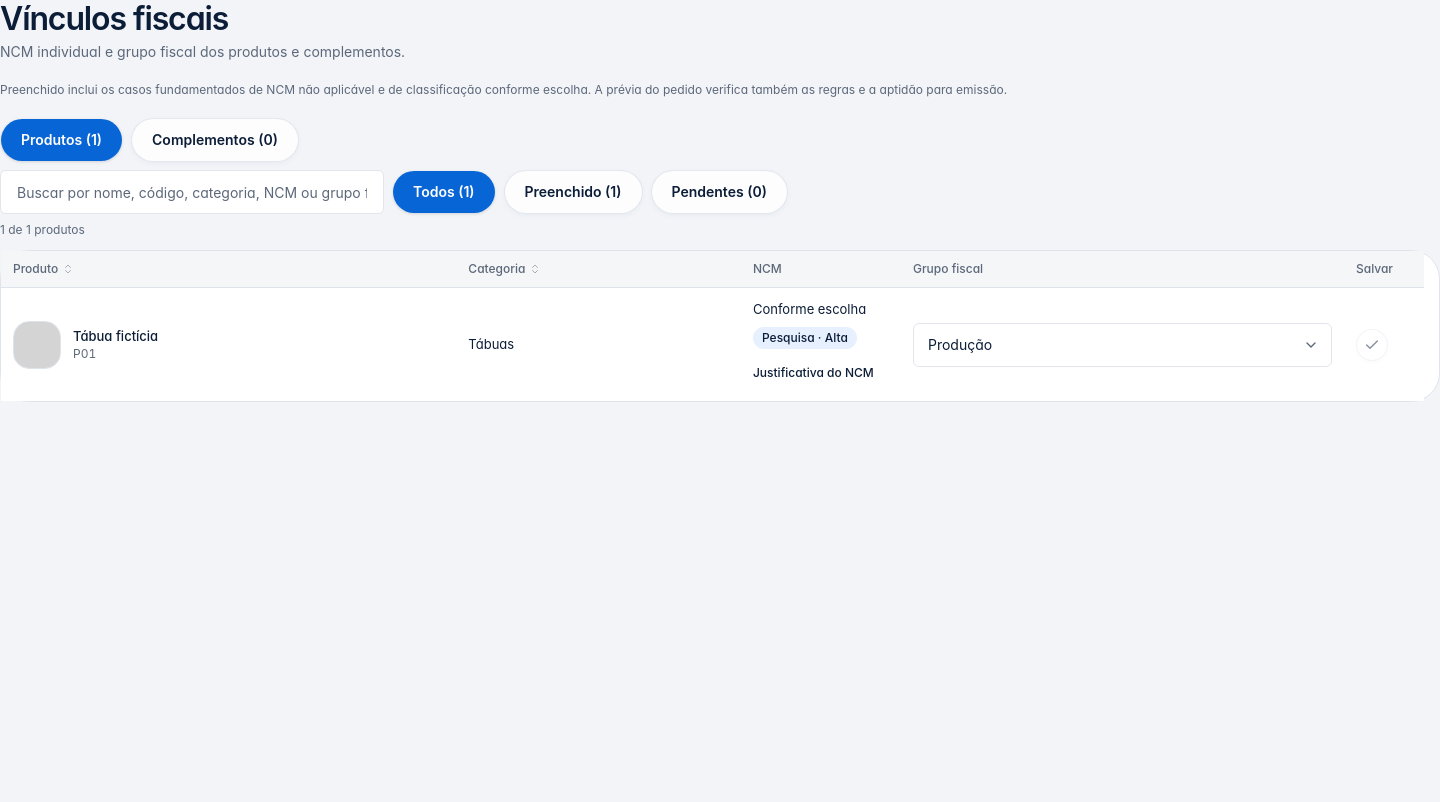
Scenario: mostra NCM por escolha sem substituir as variantes por um código único
This screenshot has width=1440, height=802.
Expected: the text "Conforme escolha" is shown, [753, 301, 866, 317]
Click the heading "Justificativa do NCM" at (813, 372), box [753, 365, 874, 380]
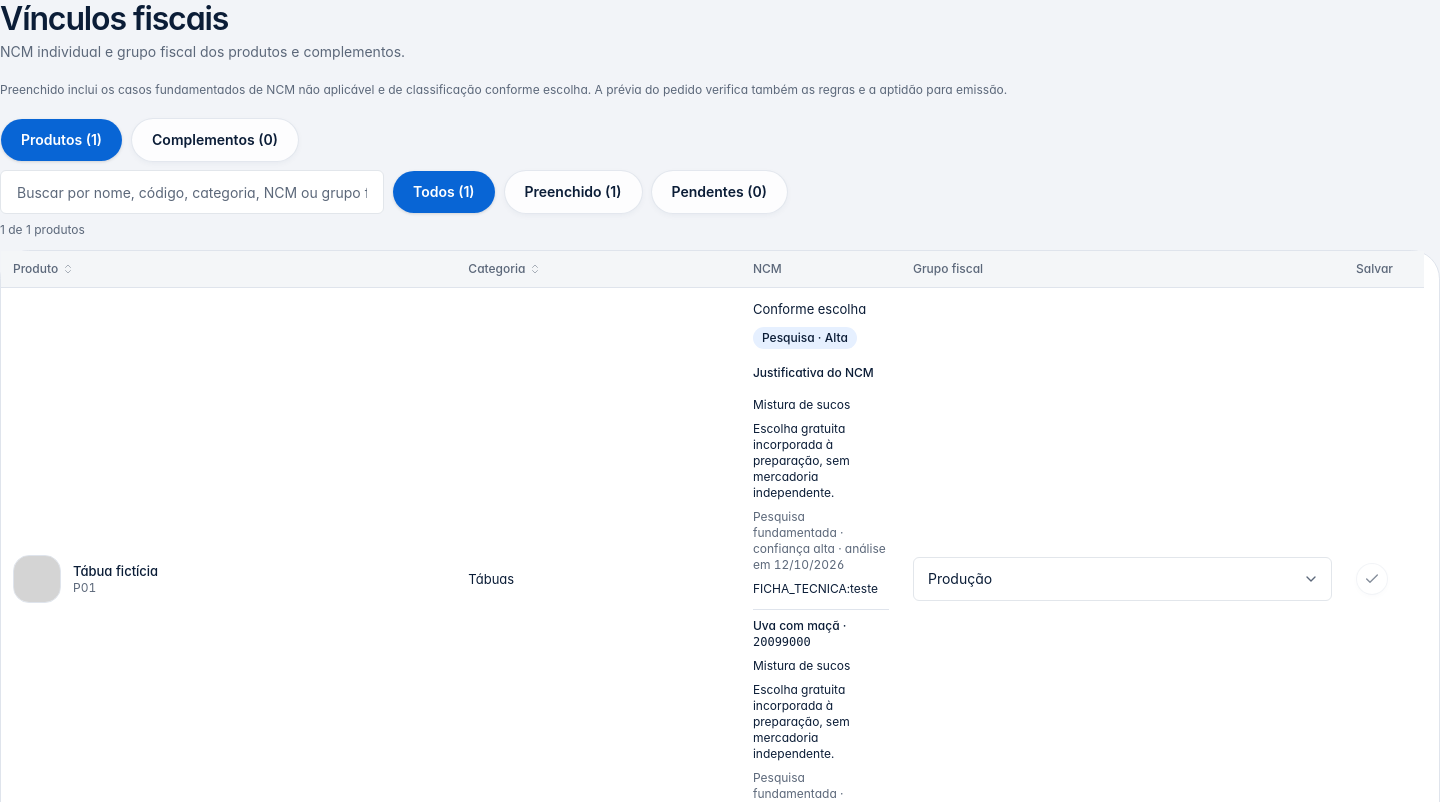
Expected: the button "Preenchido (1)" is shown, [504, 170, 642, 214]
Expected: the text "20099000" is shown, [753, 635, 811, 649]
